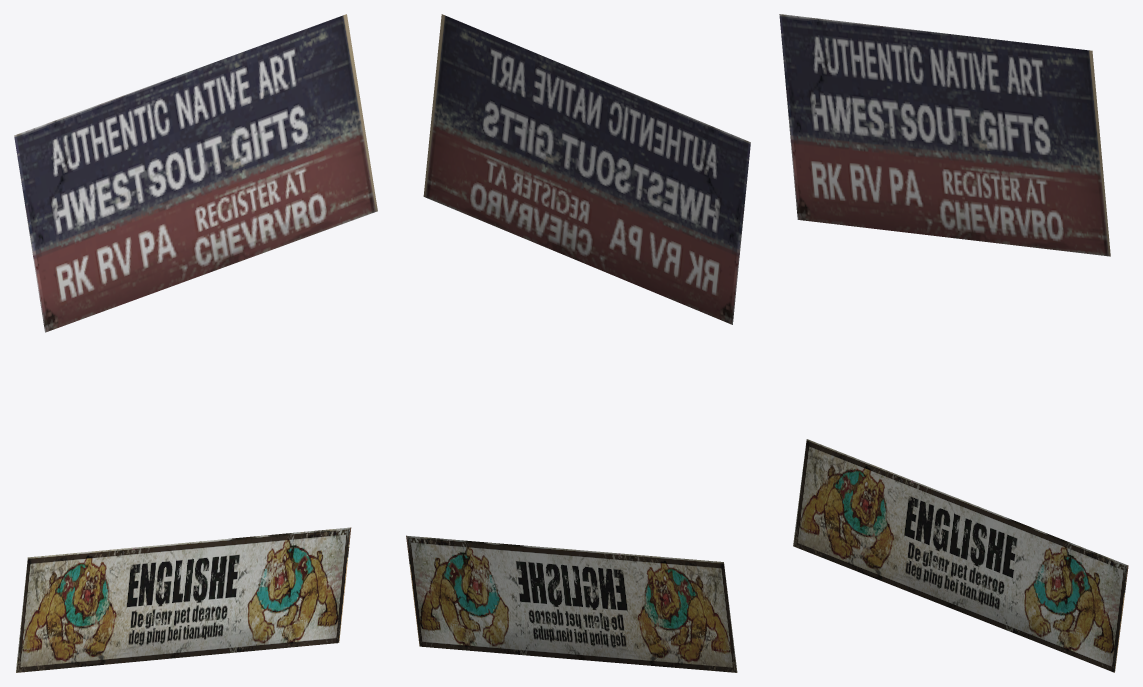
3 views of the same model, side by side, from view 1: azimuth 30°, elevation 25°; view 2: azimuth 150°, elevation 25°; view 3: azimuth 330°, elevation 25° (orthographic). The views are drawn at different scales.
Visible parts, largest first — view 1: 03; view 2: 03; view 3: 03.
Part boxes in pixels (<box>): 03: <box>14,14,377,672</box>; 03: <box>406,14,750,672</box>; 03: <box>779,14,1128,672</box>.
Size of the model in its own units: 33.63 by 58.88 by 3.72.
1 material, 1 textured.
